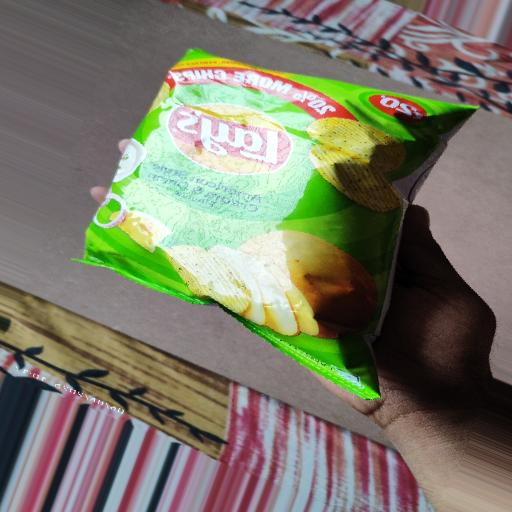Lays Green Small pack (American style cream and onion): (80, 21, 488, 431)
